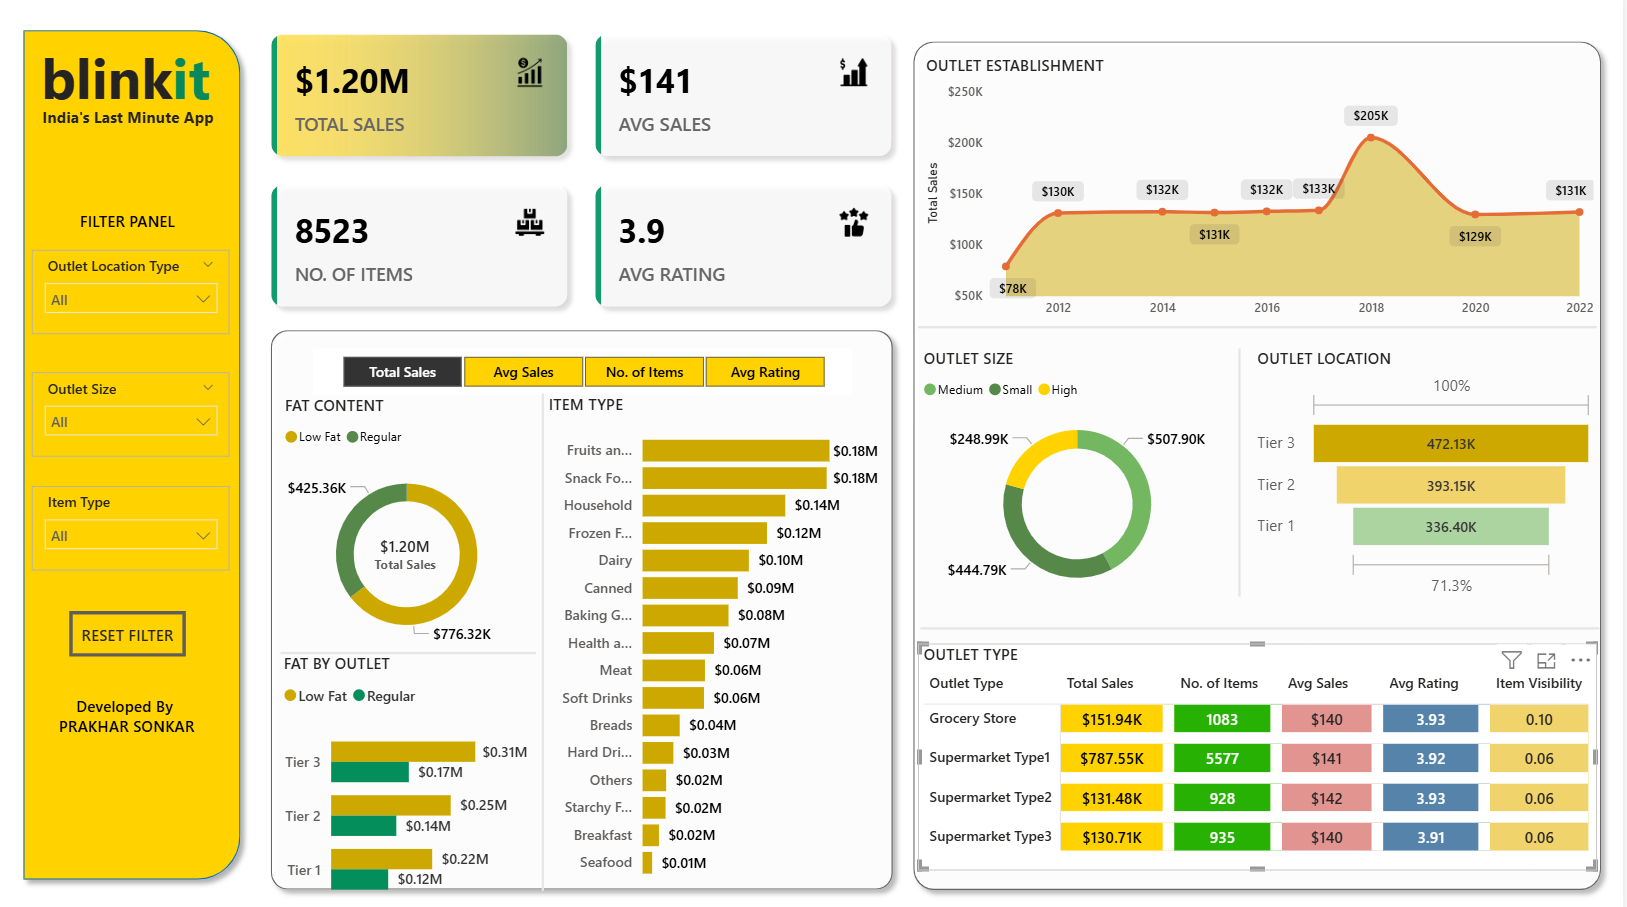

The page's visual inventory and layout, read from the dashboard file:
{"tool":"powerbi","page":{"name":"Page 1","canvas":[1400,800],"ordinal":0},"visuals":[{"type":"shape","box":[12.5,25,205,750],"z":0},{"type":"textbox","box":[32.5,36.2,158.8,75],"z":1000},{"type":"textbox","box":[33.8,95,168.8,32.5],"z":2000},{"type":"cardVisual","fields":{"Data":["BlinkIT Grocery Data.Total Sales","BlinkIT Grocery Data.Avg Sales","BlinkIT Grocery Data.No. of Items","BlinkIT Grocery Data.Avg Rating"]},"box":[218.8,20.3,569.8,269.6],"z":3000},{"type":"shape","box":[226.2,283.8,553.8,500],"z":4000},{"type":"donutChart","title":"FAT CONTENT","fields":{"Y":["BlinkIT Grocery Data.Total Sales"],"Category":["BlinkIT Grocery Data.Item Fat Content"]},"box":[242.5,347.5,220,230],"z":5000},{"type":"slicer","fields":{"Values":["Matrics.Matrics"]},"box":[271.2,307.5,465,40],"z":6000},{"type":"cardVisual","fields":{"Data":["BlinkIT Grocery Data.Total Sales"]},"box":[305.2,452.8,92.8,63.6],"z":7000},{"type":"clusteredBarChart","title":"FAT BY OUTLET","fields":{"Y":["BlinkIT Grocery Data.Total Sales"],"Category":["BlinkIT Grocery Data.Outlet Location Type"],"Series":["BlinkIT Grocery Data.Item Fat Content"]},"box":[241.6,569.8,220,230.2],"z":8000},{"type":"shape","box":[242.9,548.1,220,44.5],"z":9000},{"type":"shape","box":[462.9,347.2,12.7,428.6],"z":10000},{"type":"barChart","title":"ITEM TYPE","fields":{"Y":["BlinkIT Grocery Data.Total Sales"],"Category":["BlinkIT Grocery Data.Item Type"]},"box":[469.3,347.2,293.8,428.6],"z":11000},{"type":"shape","box":[779.6,34.3,610.5,749.1],"z":12000},{"type":"lineChart","title":"OUTLET ESTABLISHMENT","fields":{"Category":["BlinkIT Grocery Data.Outlet Establishment Year"],"Y":["BlinkIT Grocery Data.Total Sales"]},"box":[794.9,54.7,585,235.3],"z":13000},{"type":"shape","box":[792.3,272.2,585,34.3],"z":14000},{"type":"donutChart","title":"OUTLET SIZE","fields":{"Y":["BlinkIT Grocery Data.Total Sales"],"Category":["BlinkIT Grocery Data.Outlet Size"]},"box":[792.3,306.5,274.7,225.1],"z":15000},{"type":"shape","box":[1054.3,307.8,30.5,213.7],"z":16000},{"type":"funnel","title":"OUTLET LOCATION","fields":{"Y":["Sum(BlinkIT Grocery Data.Sales)"],"Category":["BlinkIT Grocery Data.Outlet Location Type"]},"box":[1079.8,306.5,300.1,220],"z":17000},{"type":"shape","box":[794.9,531.6,585,34.3],"z":18000},{"type":"pivotTable","title":"OUTLET TYPE","fields":{"Rows":["BlinkIT Grocery Data.Outlet Type"],"Values":["BlinkIT Grocery Data.Total Sales","BlinkIT Grocery Data.No. of Items","BlinkIT Grocery Data.Avg Sales","BlinkIT Grocery Data.Avg Rating","Avg(BlinkIT Grocery Data.Item Visibility)"]},"box":[792.3,562.1,585,195.9],"z":19000},{"type":"slicer","fields":{"Values":["BlinkIT Grocery Data.Outlet Location Type"]},"box":[29.3,222.6,170.4,72.5],"z":20000},{"type":"slicer","fields":{"Values":["BlinkIT Grocery Data.Outlet Size"]},"box":[29.3,328.1,170.4,72.5],"z":21000},{"type":"slicer","fields":{"Values":["BlinkIT Grocery Data.Item Type"]},"box":[29.3,426.1,170.4,72.5],"z":22000},{"type":"textbox","box":[36.9,184.4,150.1,28],"z":23000},{"type":"actionButton","box":[61,534.2,100.5,39.4],"z":24000},{"type":"textbox","box":[8.9,601.6,204.8,58.5],"z":25000}]}

Visuals, with their boxes in screenshot pixels (x1, y1, x2, y2), scaled from the page's 1400x800 canvas onto the 1627x907 screenshot:
shape: detection(15, 28, 253, 879)
textbox: detection(38, 41, 222, 126)
textbox: detection(39, 108, 235, 145)
cardVisual - BlinkIT Grocery Data.Total Sales x BlinkIT Grocery Data.Avg Sales: detection(254, 23, 916, 329)
shape: detection(263, 322, 906, 889)
"FAT CONTENT" donutChart: detection(282, 394, 537, 655)
slicer - Matrics.Matrics: detection(315, 349, 856, 394)
cardVisual - BlinkIT Grocery Data.Total Sales: detection(355, 513, 463, 585)
"FAT BY OUTLET" clusteredBarChart: detection(281, 646, 536, 906)
shape: detection(282, 621, 538, 672)
shape: detection(538, 394, 553, 880)
"ITEM TYPE" barChart: detection(545, 394, 887, 880)
shape: detection(906, 39, 1615, 888)
"OUTLET ESTABLISHMENT" lineChart: detection(924, 62, 1604, 329)
shape: detection(921, 309, 1601, 347)
"OUTLET SIZE" donutChart: detection(921, 347, 1240, 603)
shape: detection(1225, 349, 1261, 591)
"OUTLET LOCATION" funnel: detection(1255, 347, 1604, 597)
shape: detection(924, 603, 1604, 642)
"OUTLET TYPE" pivotTable: detection(921, 637, 1601, 859)
slicer - BlinkIT Grocery Data.Outlet Location Type: detection(34, 252, 232, 335)
slicer - BlinkIT Grocery Data.Outlet Size: detection(34, 372, 232, 454)
slicer - BlinkIT Grocery Data.Item Type: detection(34, 483, 232, 565)
textbox: detection(43, 209, 217, 241)
actionButton: detection(71, 606, 188, 650)
textbox: detection(10, 682, 248, 748)
